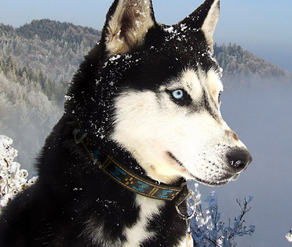husky: (52, 3, 254, 240)
